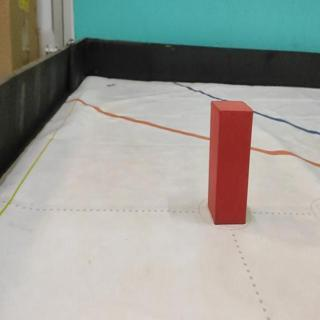redbox: (207, 100, 253, 223)
